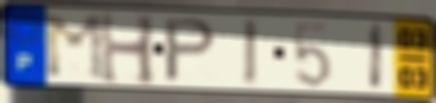5: (291, 20, 336, 89)
H: (98, 10, 159, 88)
I: (240, 17, 260, 88), (367, 21, 386, 93)
M: (39, 13, 111, 83)
P: (162, 16, 220, 85)
